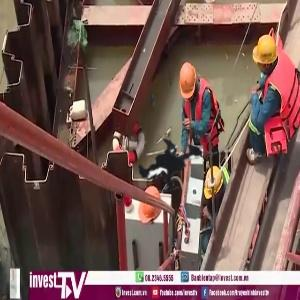drone: (91, 88, 282, 279)
